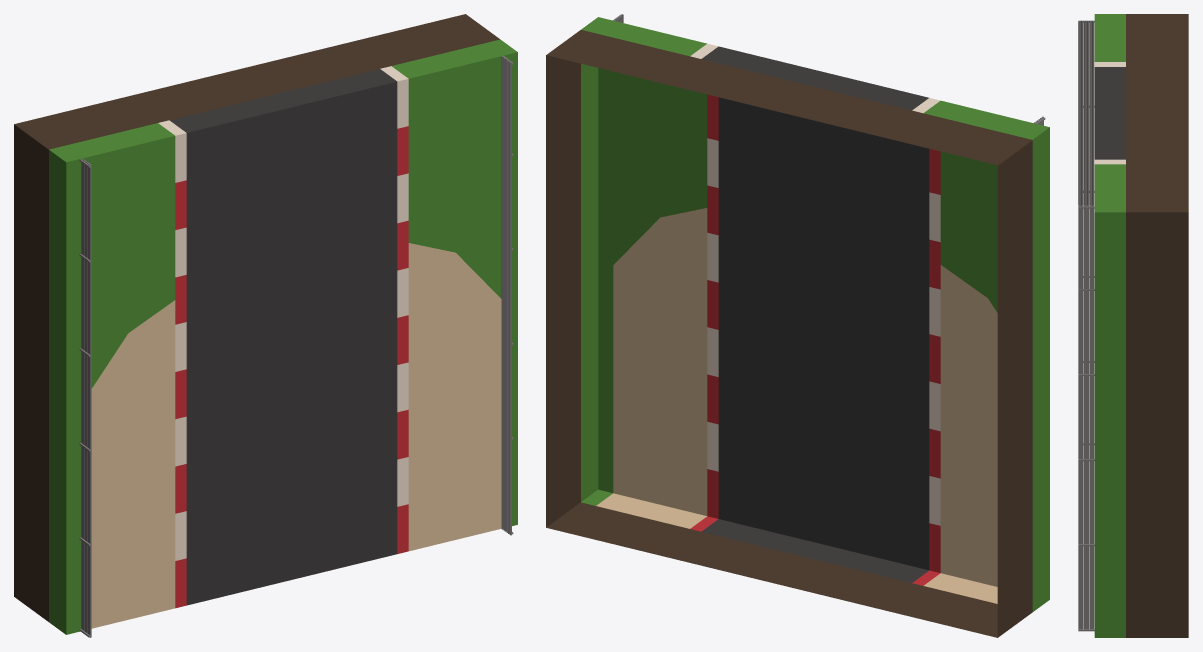
File: race_mixed_straight.glb
3 renders of one model, left to right at view 1: azimuth 30°, elevation 25°; view 2: azimuth 150°, elevation 25°; view 3: azimuth 270°, elevation 25°, orthographic. The views are drawn at different scales.
Parts seen in each view (by area): view 1: tile-race-track-straight-curbs-sand-cut; view 2: tile-race-track-straight-curbs-sand-cut; view 3: tile-race-track-straight-curbs-sand-cut.
Part boxes in pixels (x1=…): tile-race-track-straight-curbs-sand-cut: x1=14, y1=14, x2=517, y2=637; tile-race-track-straight-curbs-sand-cut: x1=546, y1=14, x2=1049, y2=637; tile-race-track-straight-curbs-sand-cut: x1=1078, y1=14, x2=1188, y2=637.
Size of the model in its own units: 30 by 30 by 7.05.
1 material, 1 textured.
